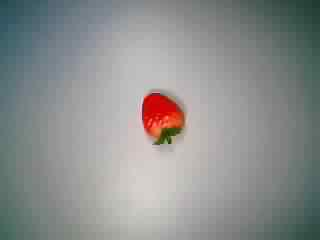strawberry: (130, 85, 196, 151)
